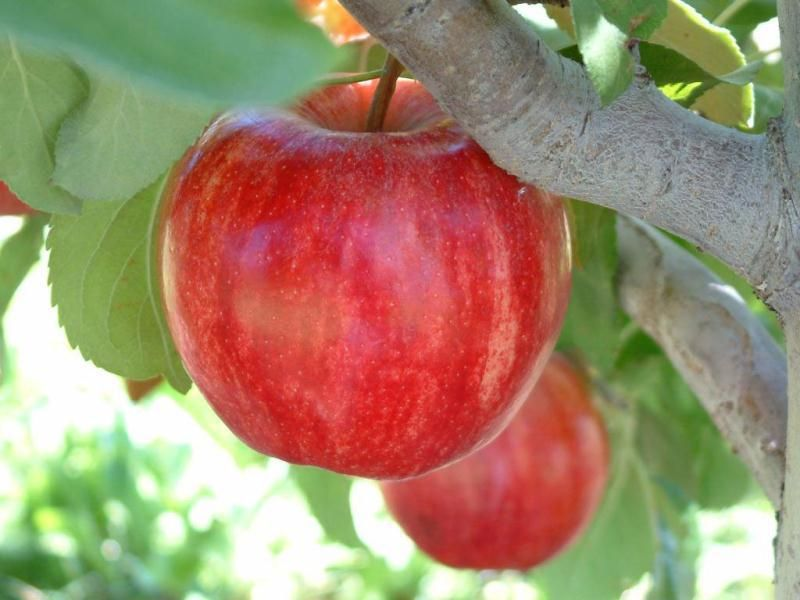elma: (156, 72, 575, 475)
